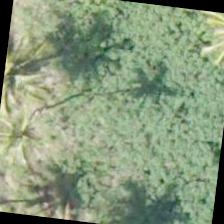Kelapa_Sawit: (0, 80, 69, 178)
